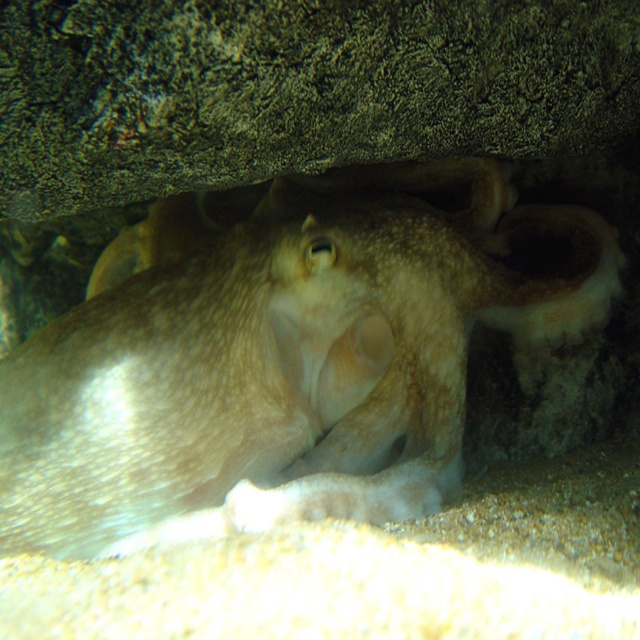Fish: (0, 157, 627, 563)
